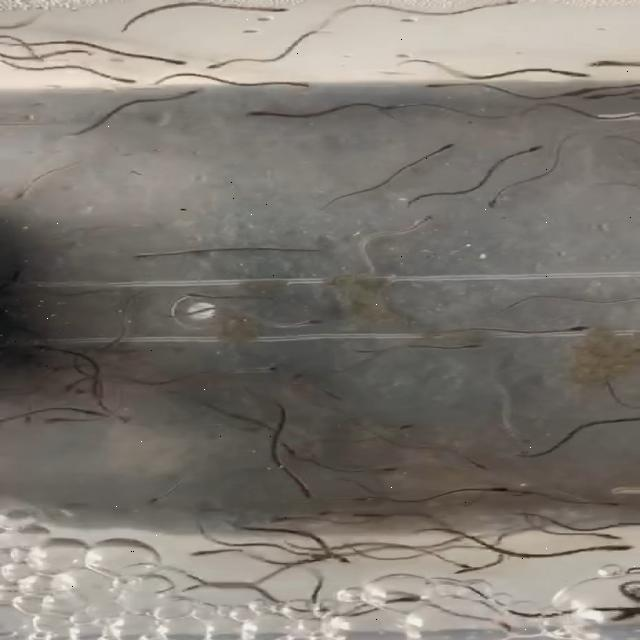active_glass_eel: (471, 181, 538, 221), (392, 210, 470, 233), (72, 68, 140, 94), (209, 41, 259, 74), (1, 179, 56, 209), (166, 280, 218, 308), (230, 100, 296, 122), (128, 239, 167, 275), (578, 538, 638, 560), (254, 71, 316, 92), (494, 138, 548, 162), (282, 364, 336, 388), (89, 328, 152, 348), (81, 372, 137, 394), (578, 494, 626, 518), (592, 600, 640, 624), (428, 129, 465, 159), (529, 66, 589, 84), (585, 416, 632, 438), (523, 322, 561, 348), (289, 477, 319, 507), (376, 418, 416, 440), (262, 308, 305, 328), (162, 82, 208, 100), (442, 338, 486, 356), (34, 410, 72, 430), (241, 5, 299, 18), (472, 481, 518, 497), (432, 560, 477, 576), (494, 426, 536, 443), (426, 76, 470, 92), (147, 53, 196, 67), (466, 305, 523, 317), (449, 454, 491, 470), (273, 510, 310, 528), (342, 492, 384, 507), (572, 90, 608, 107), (452, 562, 495, 576), (186, 546, 226, 560), (370, 462, 404, 478), (316, 539, 336, 558)
